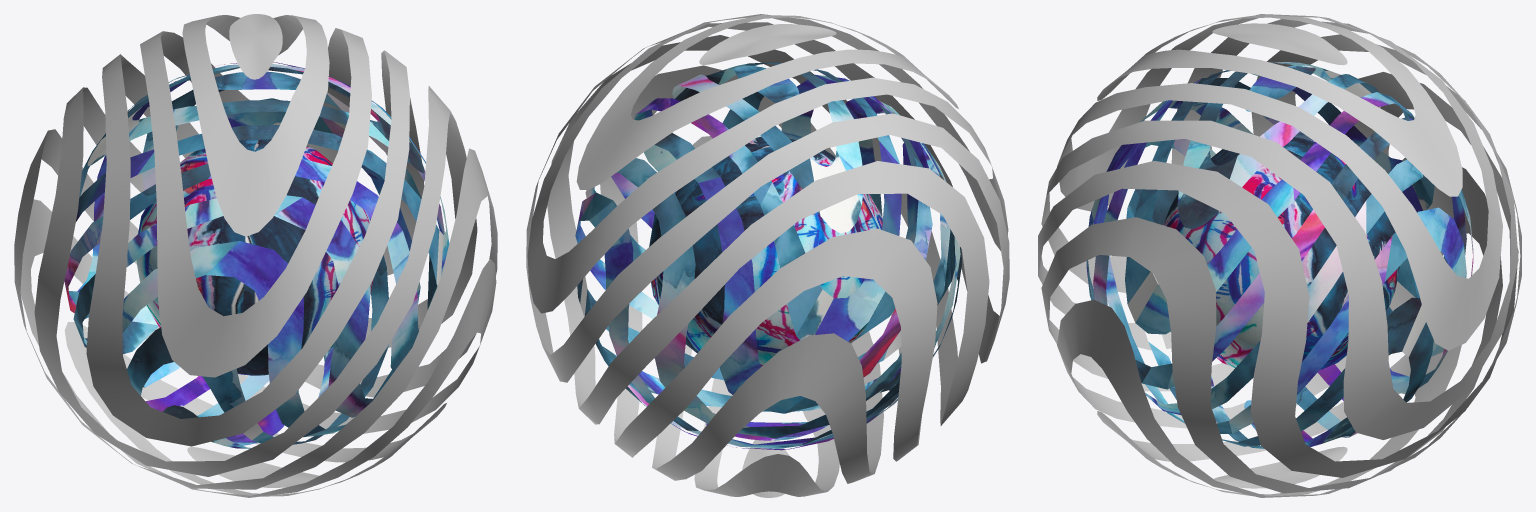
Rendered from layered_ball.fbx.
3 views of the same model, side by side, from view 1: azimuth 30°, elevation 25°; view 2: azimuth 150°, elevation 25°; view 3: azimuth 270°, elevation 25° (orthographic).
Parts seen in each view (by area): view 1: S1, S2, S3; view 2: S1, S2, S3; view 3: S1, S2, S3.
Part boxes in pixels (left/top/right/bottom): S1: left=14, top=14, right=497, bottom=497; S2: left=64, top=62, right=449, bottom=448; S3: left=136, top=139, right=373, bottom=375; S1: left=526, top=14, right=1009, bottom=497; S2: left=575, top=62, right=961, bottom=450; S3: left=649, top=136, right=882, bottom=367; S1: left=1038, top=14, right=1521, bottom=497; S2: left=1086, top=62, right=1473, bottom=448; S3: left=1164, top=137, right=1399, bottom=369.
Bounding box in the file's own units: 29.87 × 29.74 × 30.
